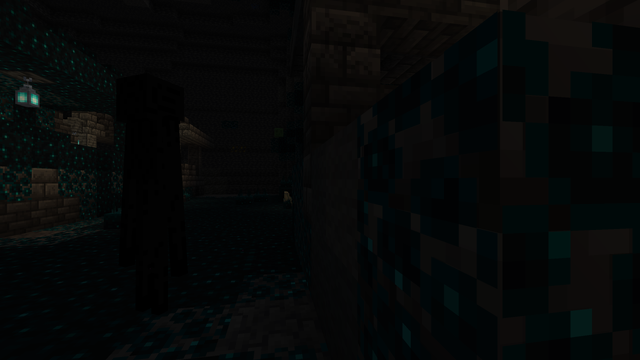endermens: (109, 64, 185, 325)
slimes: (274, 127, 282, 136)
